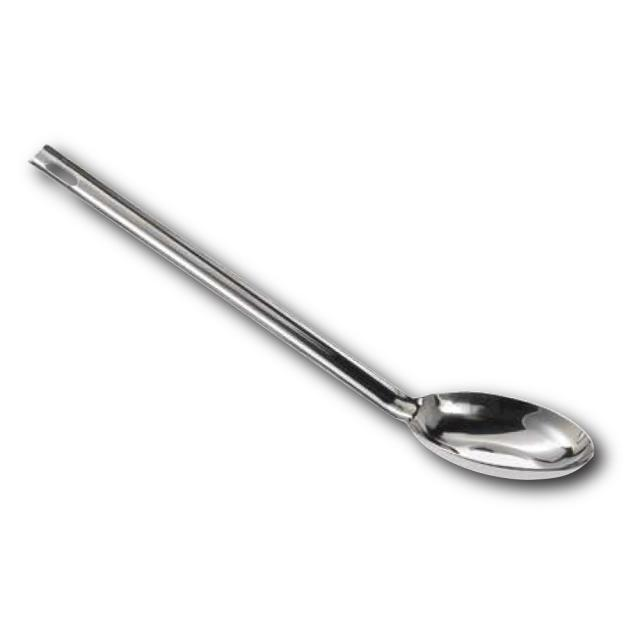spoon: (25, 134, 617, 485)
